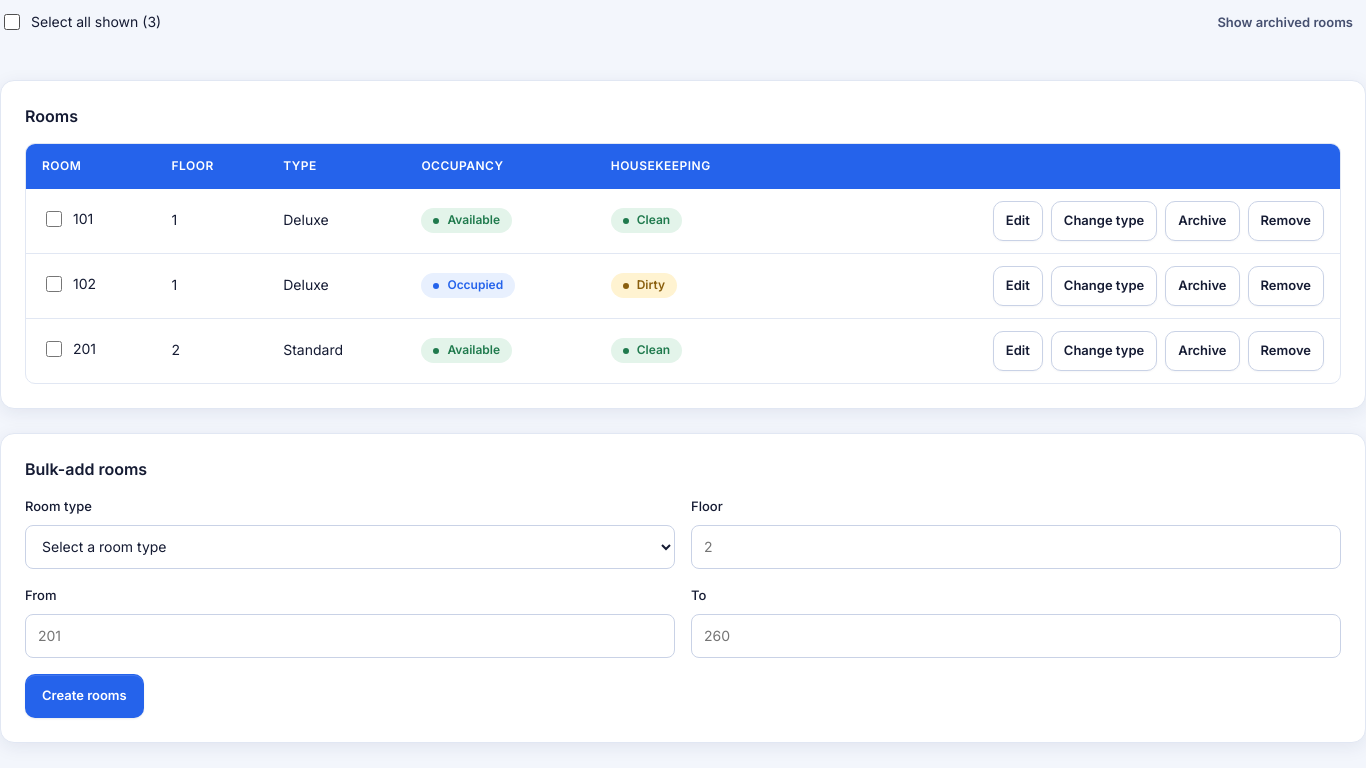
Test: <RoomsTab> › managing rooms after creation › rename › sends null when the floor is cleared, and shows the duplicate-number error
The width and height of the screenshot is (1366, 768).
Expected: the text "101" is shown, [42, 208, 93, 230]
Click the button "Edit" in the row of "101" at (1018, 221), box [993, 201, 1043, 241]
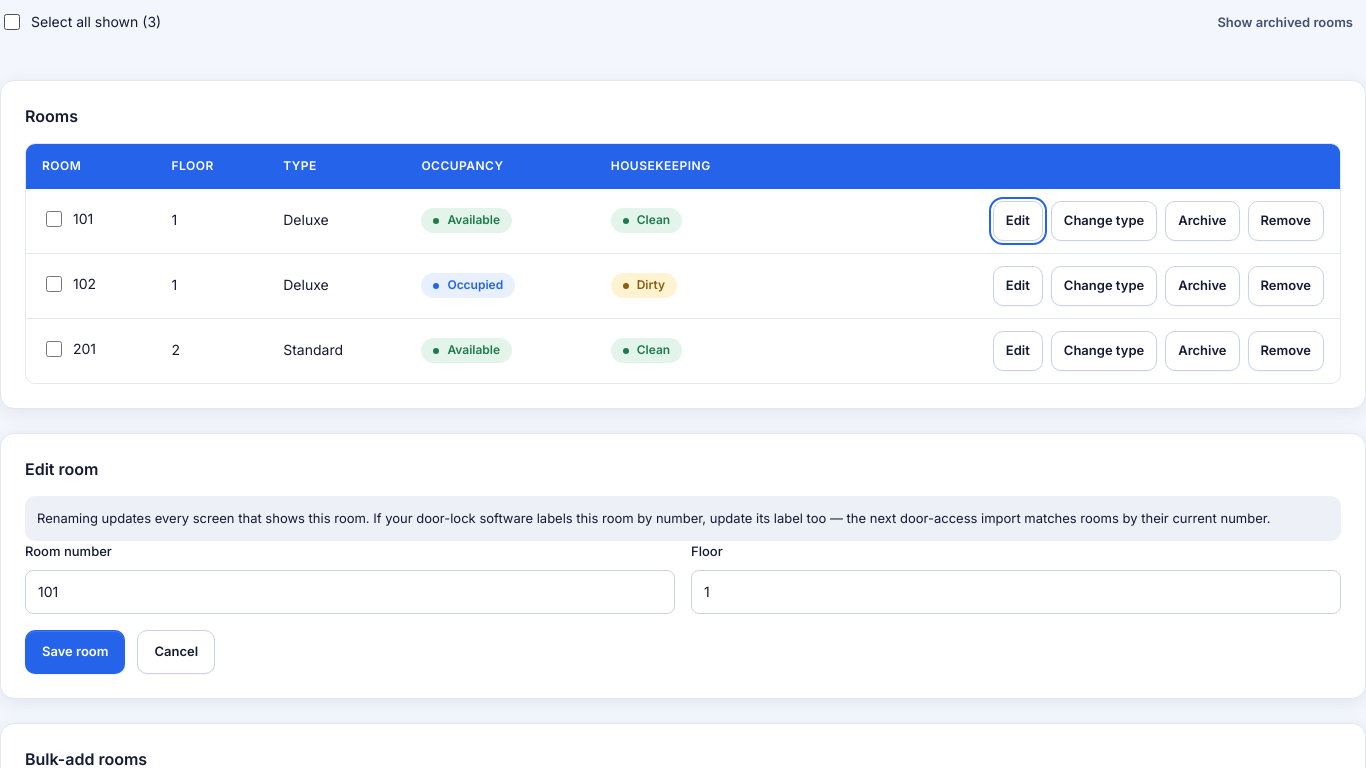
Clear the field labelled "Floor" at (1016, 592), box [691, 570, 1341, 614]
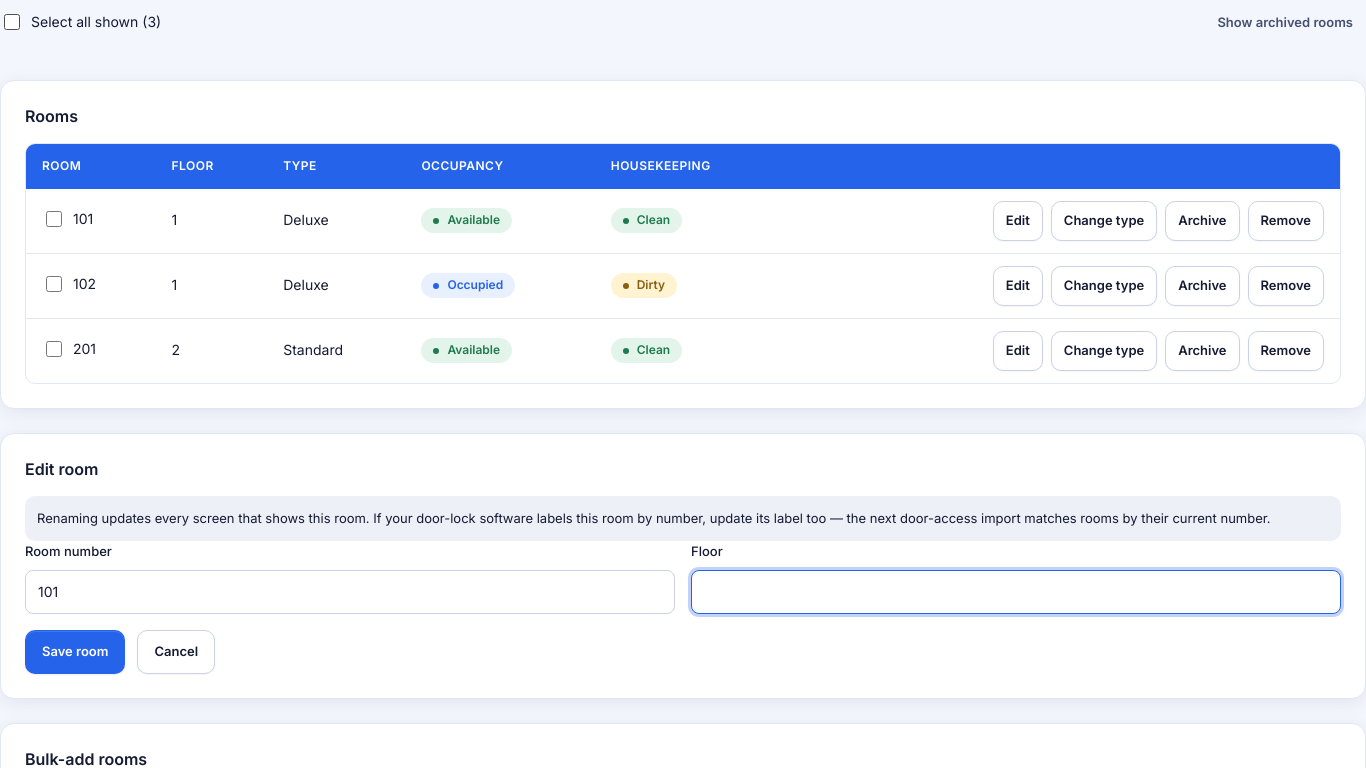
Click the button "Save room" at (75, 652), box [25, 630, 126, 674]
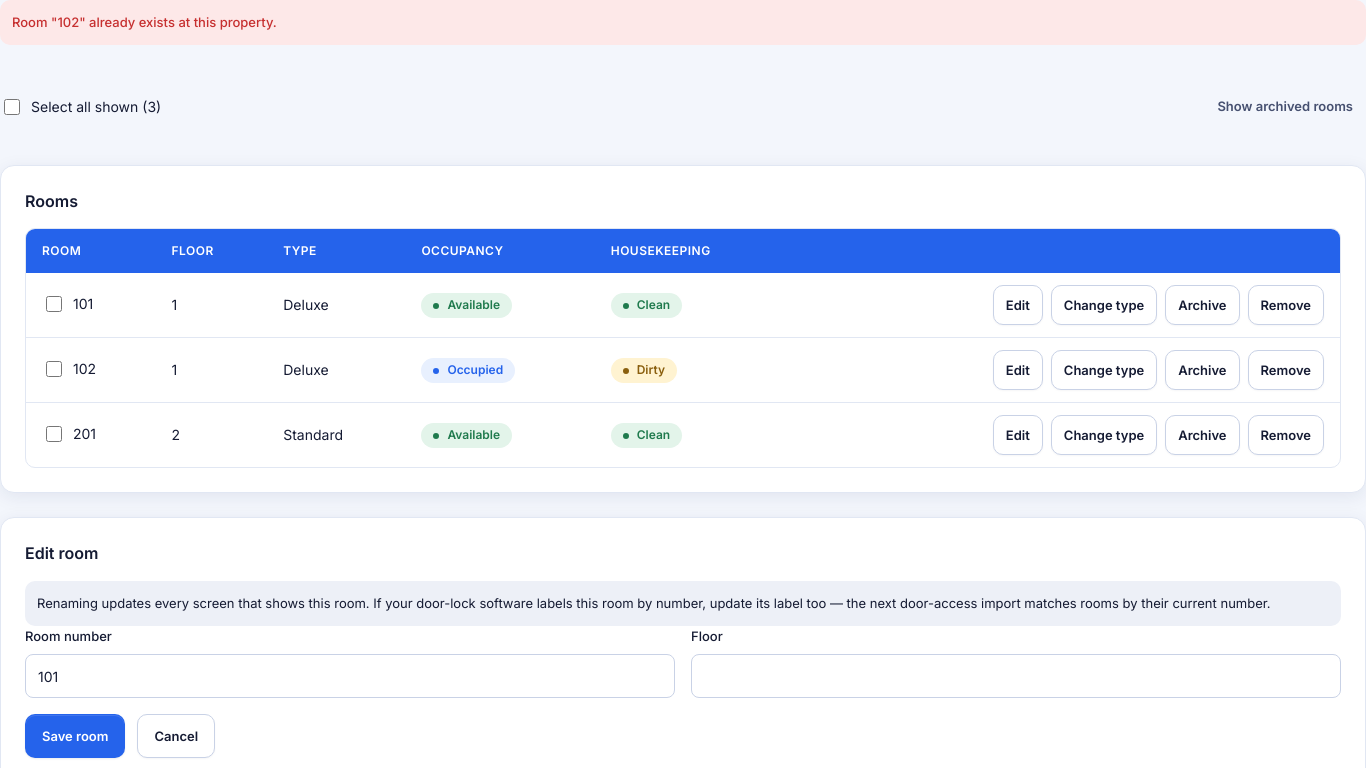
Expected: the message shows "Room \"102\" already exists", [12, 14, 277, 30]
